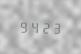four: (29, 19, 39, 33)
nine: (18, 19, 28, 33)
three: (51, 20, 61, 34)
two: (40, 20, 50, 34)
